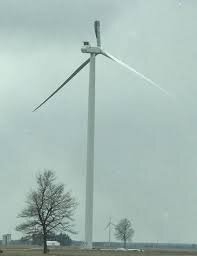faulty: (78, 18, 114, 81)
